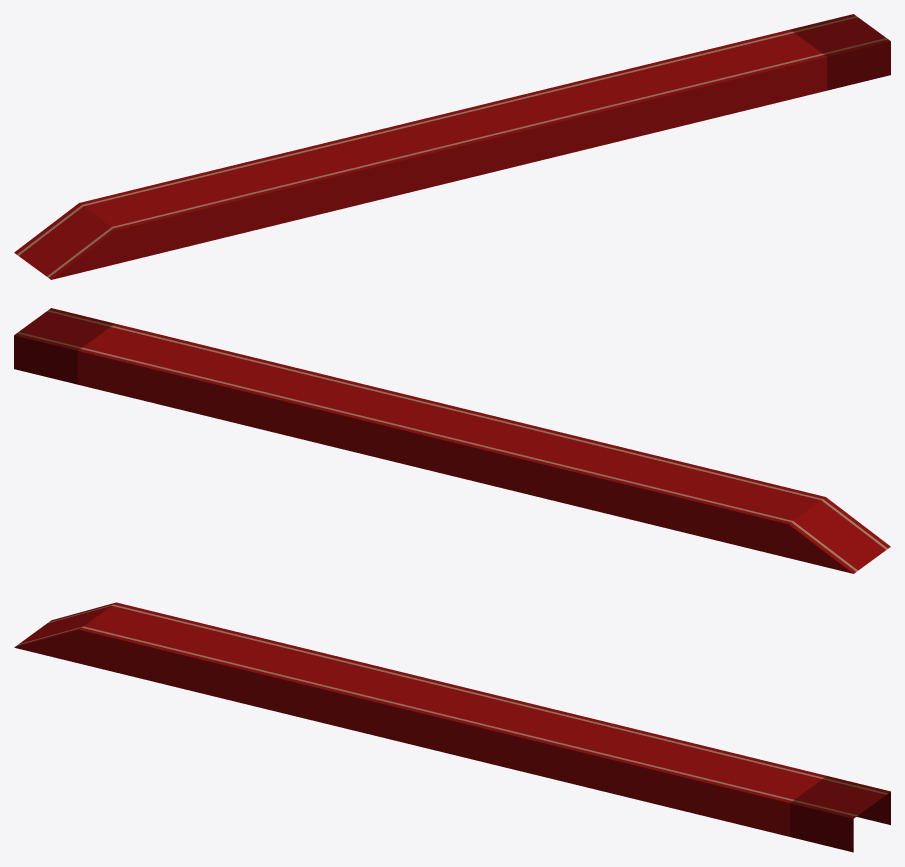
File: OT_063_duam_catwalk_var1.glb
The picture shows the model from 3 angles, top to bottom: view 1: azimuth 30°, elevation 25°; view 2: azimuth 150°, elevation 25°; view 3: azimuth 330°, elevation 25°; orthographic projection.
Visible parts, largest first — view 1: catwalk; view 2: catwalk; view 3: catwalk.
Part boxes in pixels (<box>): catwalk: <box>14,14,890,279</box>; catwalk: <box>14,308,890,573</box>; catwalk: <box>14,602,890,852</box>.
Size of the model in its own units: 9.75 by 0.375 by 0.75.
